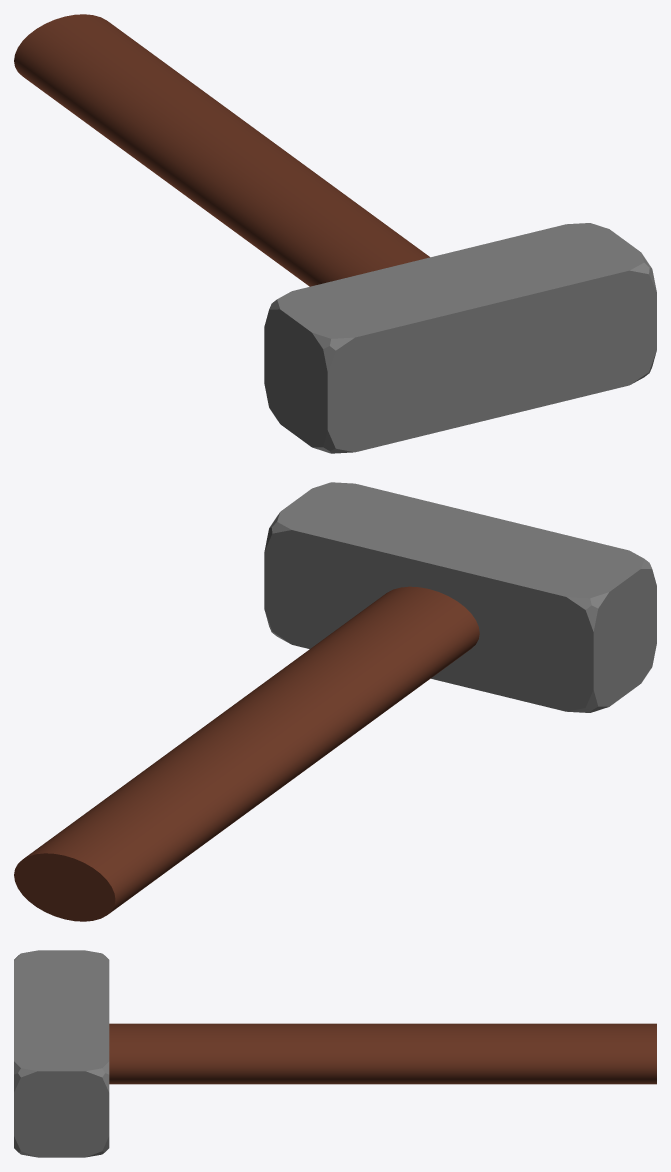
File: Hammer.fbx
3 renders of one model, top to bottom at view 1: azimuth 30°, elevation 25°; view 2: azimuth 150°, elevation 25°; view 3: azimuth 270°, elevation 25°, orthographic. The views are drawn at different scales.
Visible parts, largest first — view 1: Cylinder.005; view 2: Cylinder.005; view 3: Cylinder.005.
Part boxes in pixels (box(x1,y1,x2,y2)): Cylinder.005: box(14, 14, 656, 453); Cylinder.005: box(14, 482, 656, 921); Cylinder.005: box(14, 950, 656, 1157).
Size of the model in its own units: 12 by 4 by 27.
